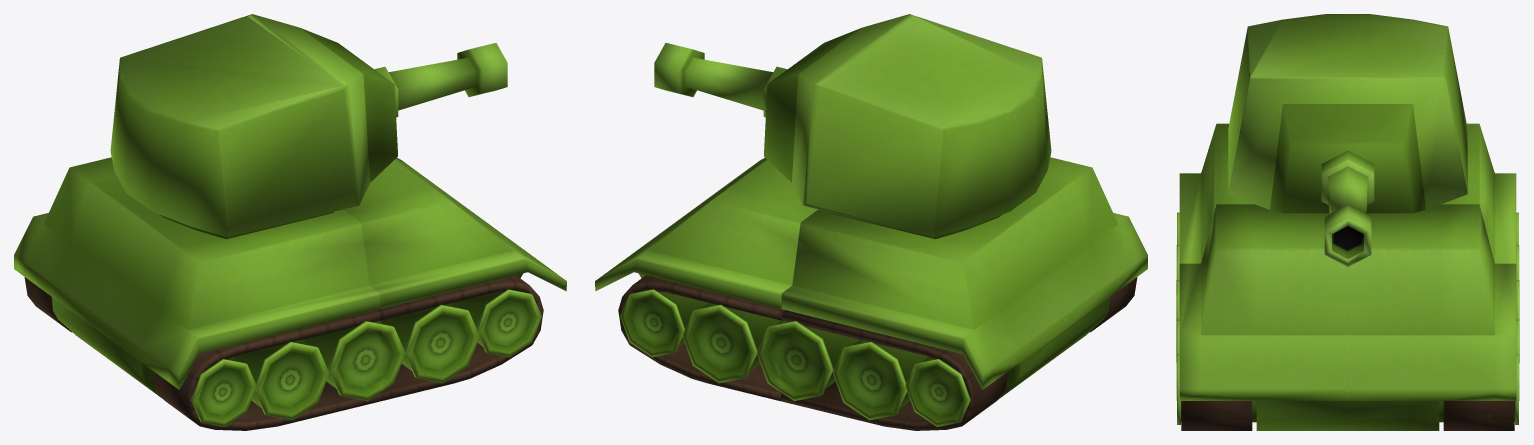
Rendered from panzer.glb.
The picture shows the model from 3 angles, left to right: view 1: azimuth 30°, elevation 25°; view 2: azimuth 150°, elevation 25°; view 3: azimuth 270°, elevation 25°; orthographic projection.
Parts seen in each view (by area): view 1: earth.001, earth; view 2: earth.001, earth; view 3: earth, earth.001.
Part boxes in pixels (bbox=[...]): earth.001: bbox=[14, 16, 383, 430]; earth: bbox=[247, 14, 566, 401]; earth.001: bbox=[778, 16, 1147, 430]; earth: bbox=[595, 14, 914, 401]; earth: bbox=[1176, 76, 1519, 430]; earth.001: bbox=[1176, 14, 1519, 295].
Bounding box in the file's own units: 1.22 × 0.8513 × 0.8916.
1 material, 1 textured.
